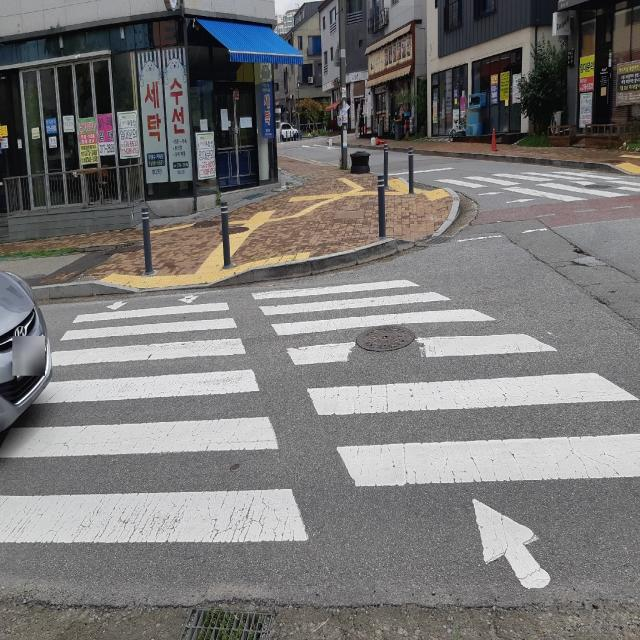횡단보도: (0, 271, 640, 597), (457, 177, 630, 195)
